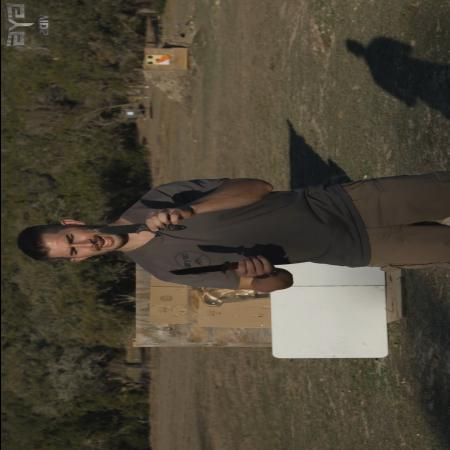long weapon: (85, 212, 190, 238), (162, 256, 268, 278)
